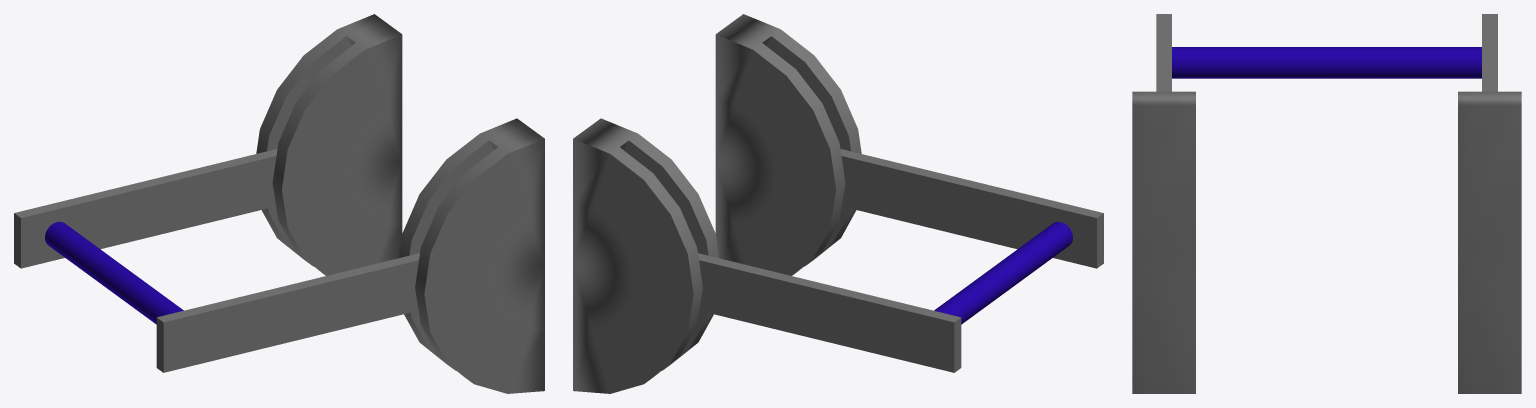
Rendered from SWB.fbx.
3 renders of one model, left to right at view 1: azimuth 30°, elevation 25°; view 2: azimuth 150°, elevation 25°; view 3: azimuth 270°, elevation 25°, orthographic. The views are drawn at different scales.
Parts seen in each view (by area): view 1: SWASL, SWASL1, SWSR, SWSL, Axis; view 2: SWASL1, SWASL, SWSL, SWSR, Axis; view 3: SWASL, SWASL1, Axis, SWSR, SWSL.
Part boxes in pixels (left/top/right/bottom): SWASL: left=399, top=118, right=544, bottom=393; SWASL1: left=256, top=14, right=402, bottom=275; SWSR: left=156, top=253, right=419, bottom=372; SWSL: left=14, top=149, right=277, bottom=268; Axis: left=45, top=221, right=183, bottom=324; SWASL1: left=573, top=118, right=718, bottom=393; SWASL: left=715, top=14, right=861, bottom=275; SWSL: left=698, top=253, right=961, bottom=372; SWSR: left=840, top=149, right=1103, bottom=268; Axis: left=934, top=221, right=1072, bottom=324; SWASL: left=1132, top=91, right=1195, bottom=393; SWASL1: left=1458, top=91, right=1521, bottom=393; Axis: left=1172, top=47, right=1481, bottom=78; SWSR: left=1156, top=14, right=1171, bottom=91; SWSL: left=1482, top=14, right=1497, bottom=91.
Size of the model in its own units: 3.08 by 2 by 2.45.
